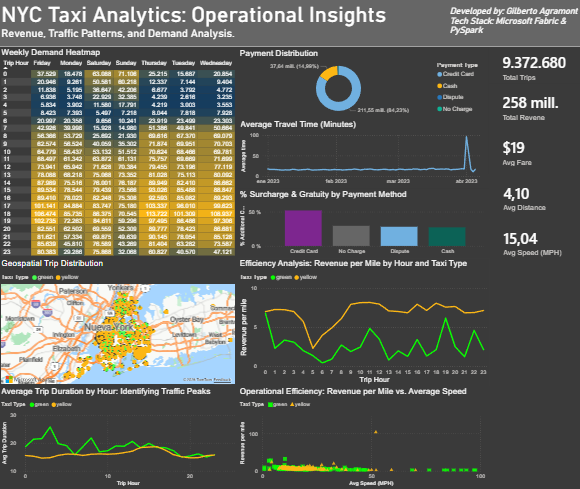

What the dashboard file says about the page in this screenshot:
{"tool":"powerbi","page":{"name":"Página 1","canvas":[1280,1080],"ordinal":0},"visuals":[{"type":"cardVisual","fields":{"Data":["fact_trips.Total Viajes"]},"box":[1077.1,98.6,202.9,100],"z":0},{"type":"donutChart","title":"Payment Distribution","fields":{"Category":["dim_payment_type.payment_desc"],"Y":["Sum(fact_trips.total_amount)"]},"box":[525,106.7,551.7,156.7],"z":1000},{"type":"lineChart","title":"Average Travel Time (Minutes)","fields":{"Category":["dim_date.date_id"],"Y":["Avg(fact_trips.duration_minutes)"]},"box":[526.7,263.3,550,153.3],"z":2000},{"type":"azureMap","title":"Geospatial Trip Distribution","fields":{"Category":["dim_zone.full_location"],"Series":["fact_trips.taxi_type"],"Size":["fact_trips.Total Viajes"]},"box":[0,570,525,281.7],"z":3000},{"type":"pivotTable","title":"Weekly Demand Heatmap","fields":{"Rows":["fact_trips.trip_hour"],"Columns":["dim_date.day_name"],"Values":["fact_trips.Total Viajes"]},"box":[0,105.7,524.3,464.3],"z":4000},{"type":"shape","box":[0,0,1280.1,105.4],"z":5000},{"type":"textbox","box":[0,0,1280.1,105.4],"z":6000},{"type":"textbox","box":[986.7,10.7,293.3,88.6],"z":7000},{"type":"lineChart","title":"Efficiency Analysis: Revenue per Mile by Hour and Taxi Type","fields":{"Category":["fact_trips.trip_hour"],"Series":["fact_trips.taxi_type"],"Y":["fact_trips.Revenue per mile"]},"box":[524.6,570.8,554.3,280.5],"z":8000},{"type":"clusteredColumnChart","title":"% Surcharge & Gratuity by Payment Method","fields":{"Y":["fact_trips.Tip Percentage"],"Category":["dim_payment_type.payment_desc"]},"box":[525,416.7,551.7,153.3],"z":9000},{"type":"lineChart","title":"Average Trip Duration by Hour: Identifying Traffic Peaks","fields":{"Category":["fact_trips.trip_hour"],"Series":["fact_trips.taxi_type"],"Y":["fact_trips.Avg Trip Duration"]},"box":[0,851.7,525,225],"z":9001},{"type":"scatterChart","title":"Operational Efficiency: Revenue per Mile vs. Average Speed","fields":{"Category":["dim_zone.zone_name"],"X":["fact_trips.Avg Speed (MPH)"],"Y":["fact_trips.Revenue per mile"],"Series":["fact_trips.taxi_type"]},"box":[525,851.7,550,225],"z":9002},{"type":"cardVisual","fields":{"Data":["fact_trips.Total Revene"]},"box":[1078,186,202,100],"z":9003},{"type":"cardVisual","fields":{"Data":["fact_trips.Average Fare"]},"box":[1078,286,202,100],"z":9004},{"type":"cardVisual","fields":{"Data":["fact_trips.Avg Trip Distance"]},"box":[1078.6,385.7,201.4,100],"z":9005},{"type":"cardVisual","fields":{"Data":["fact_trips.Avg Speed (MPH)"]},"box":[1078.6,485.7,201.4,100],"z":9006}]}

Visuals, with their boxes in screenshot pixels (x1, y1, x2, y2), scaled from the page's 1280x1080 canvas onto the 580x489 screenshot:
cardVisual - fact_trips.Total Viajes: <region>488, 45, 579, 90</region>
"Payment Distribution" donutChart: <region>238, 48, 488, 119</region>
"Average Travel Time (Minutes)" lineChart: <region>239, 119, 488, 189</region>
"Geospatial Trip Distribution" azureMap: <region>0, 258, 238, 386</region>
"Weekly Demand Heatmap" pivotTable: <region>0, 48, 238, 258</region>
shape: <region>0, 0, 579, 48</region>
textbox: <region>0, 0, 579, 48</region>
textbox: <region>447, 5, 579, 45</region>
"Efficiency Analysis: Revenue per Mile by Hour and Taxi Type" lineChart: <region>238, 258, 489, 385</region>
"% Surcharge & Gratuity by Payment Method" clusteredColumnChart: <region>238, 189, 488, 258</region>
"Average Trip Duration by Hour: Identifying Traffic Peaks" lineChart: <region>0, 386, 238, 488</region>
"Operational Efficiency: Revenue per Mile vs. Average Speed" scatterChart: <region>238, 386, 487, 488</region>
cardVisual - fact_trips.Total Revene: <region>488, 84, 579, 129</region>
cardVisual - fact_trips.Average Fare: <region>488, 129, 579, 175</region>
cardVisual - fact_trips.Avg Trip Distance: <region>489, 175, 579, 220</region>
cardVisual - fact_trips.Avg Speed (MPH): <region>489, 220, 579, 265</region>
